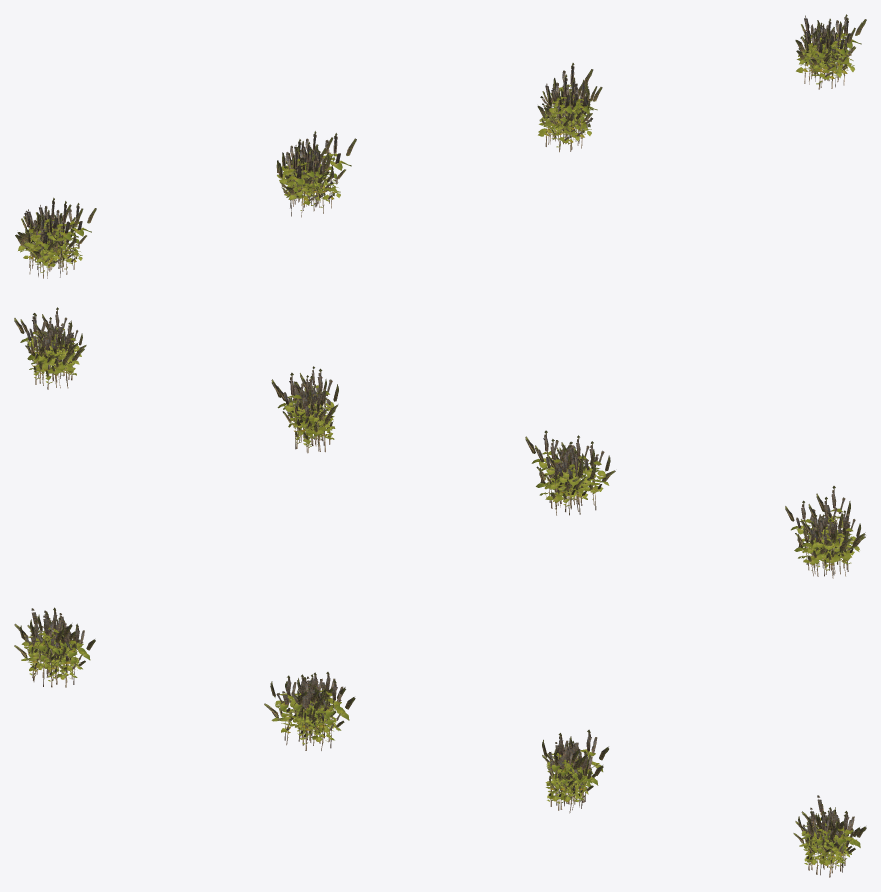
The model's file is shrub_03_lod.glb.
3 renders of one model, top to bottom at view 1: azimuth 30°, elevation 25°; view 2: azimuth 150°, elevation 25°; view 3: azimuth 330°, elevation 25°, orthographic.
Visible parts, largest first — view 1: shrub_03_b, shrub_03_a, shrub_03_c, shrub_03_d; view 2: shrub_03_b, shrub_03_a, shrub_03_c, shrub_03_d; view 3: shrub_03_b, shrub_03_a, shrub_03_c, shrub_03_d.
Boxes of the visible parts, x1,y1,x2,y2 form: shrub_03_b: [276, 131, 356, 217]; shrub_03_a: [15, 197, 96, 278]; shrub_03_c: [537, 63, 602, 152]; shrub_03_d: [795, 14, 866, 89]; shrub_03_b: [525, 430, 615, 515]; shrub_03_a: [785, 486, 865, 578]; shrub_03_c: [271, 366, 338, 453]; shrub_03_d: [14, 307, 86, 389]; shrub_03_b: [264, 672, 355, 750]; shrub_03_a: [14, 607, 95, 687]; shrub_03_c: [542, 729, 608, 813]; shrub_03_d: [793, 795, 866, 877].
Size of the model in its own units: 4.94 by 0.4294 by 0.3569.
1 material, 1 textured.
